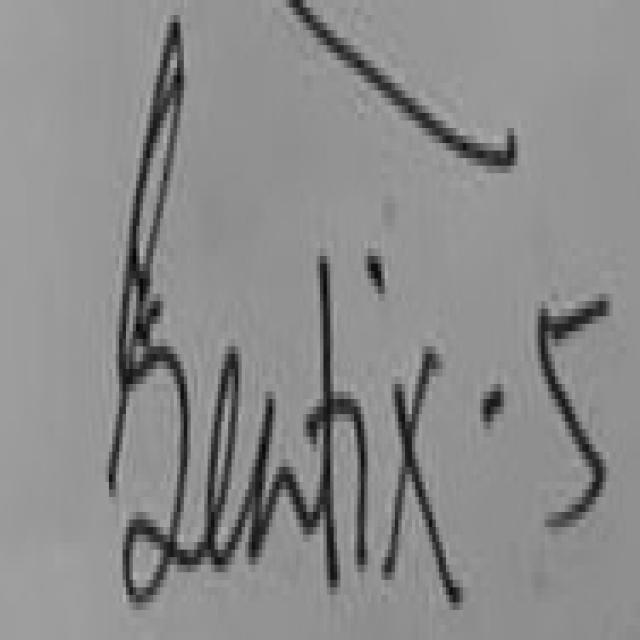5: (525, 262, 615, 550)
S: (102, 8, 200, 613)
X: (377, 326, 465, 623)
e: (201, 328, 245, 577)
i: (349, 236, 383, 589)
n: (245, 375, 308, 555)
t: (296, 228, 348, 596)
